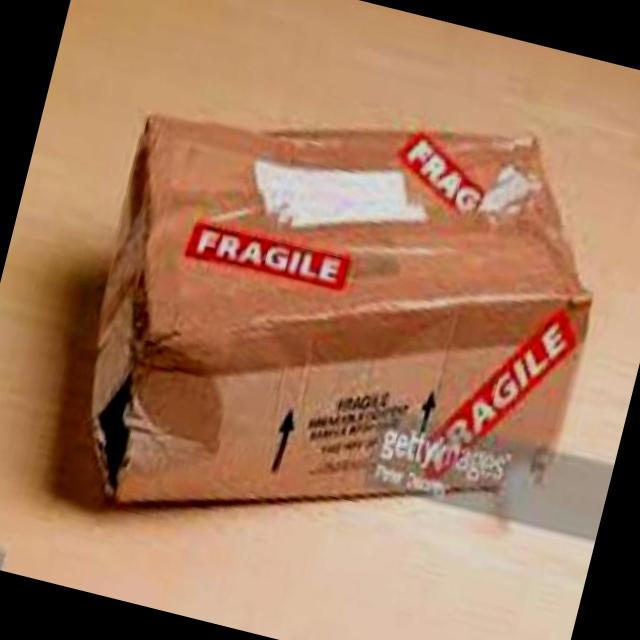box: (0, 126, 601, 621)
